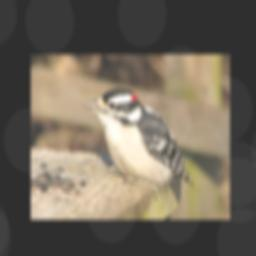Woodpecker: (79, 88, 195, 201)
